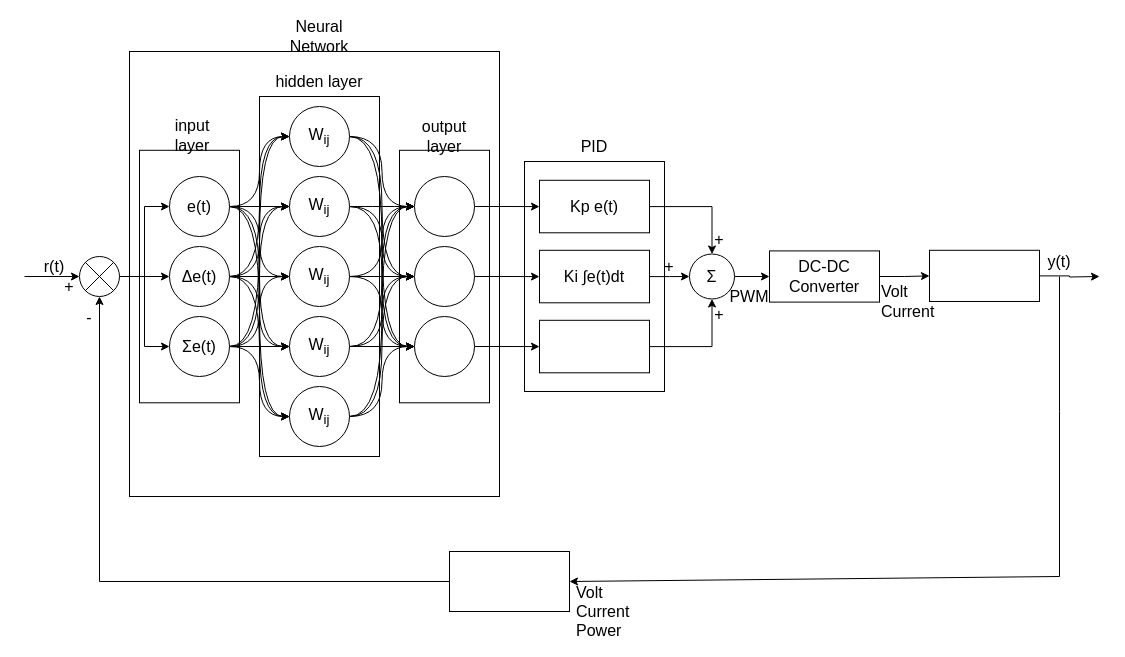
The diagram is 1125 pixels wide and 657 high, and some of its shapes have lost their labels. Each missing label, with the centre of its shape:
"Inverter" belongs at [984,275].
"Kd" belongs at [444,346].
"Kd de(t) dt" belongs at [594,346].
"Ki" belongs at [444,276].
"Kp" belongs at [444,206].
"PZEM AC" belongs at [509,581].
